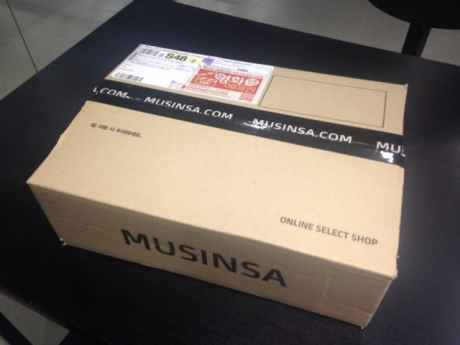undamaged: (32, 49, 408, 330)
